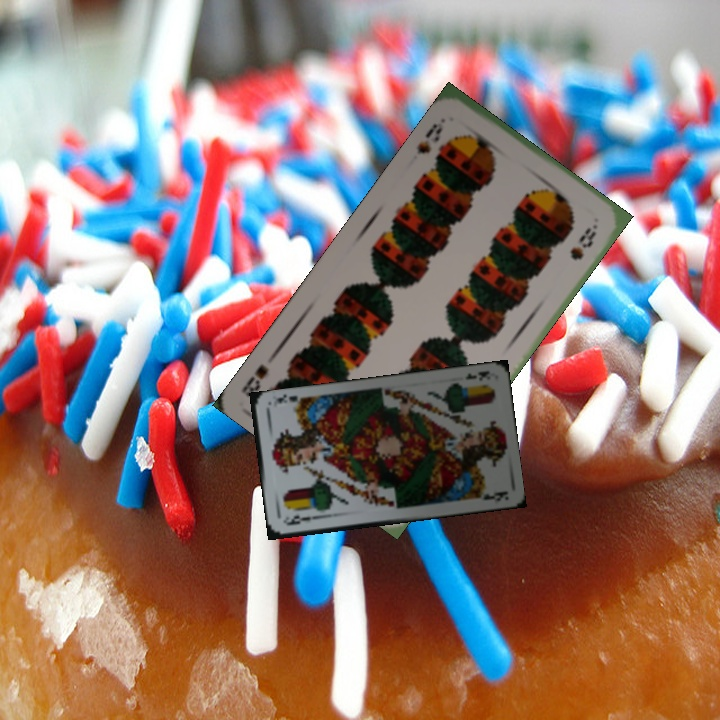EK: (282, 511, 321, 528), (461, 366, 492, 383)
S8: (412, 114, 449, 158)
